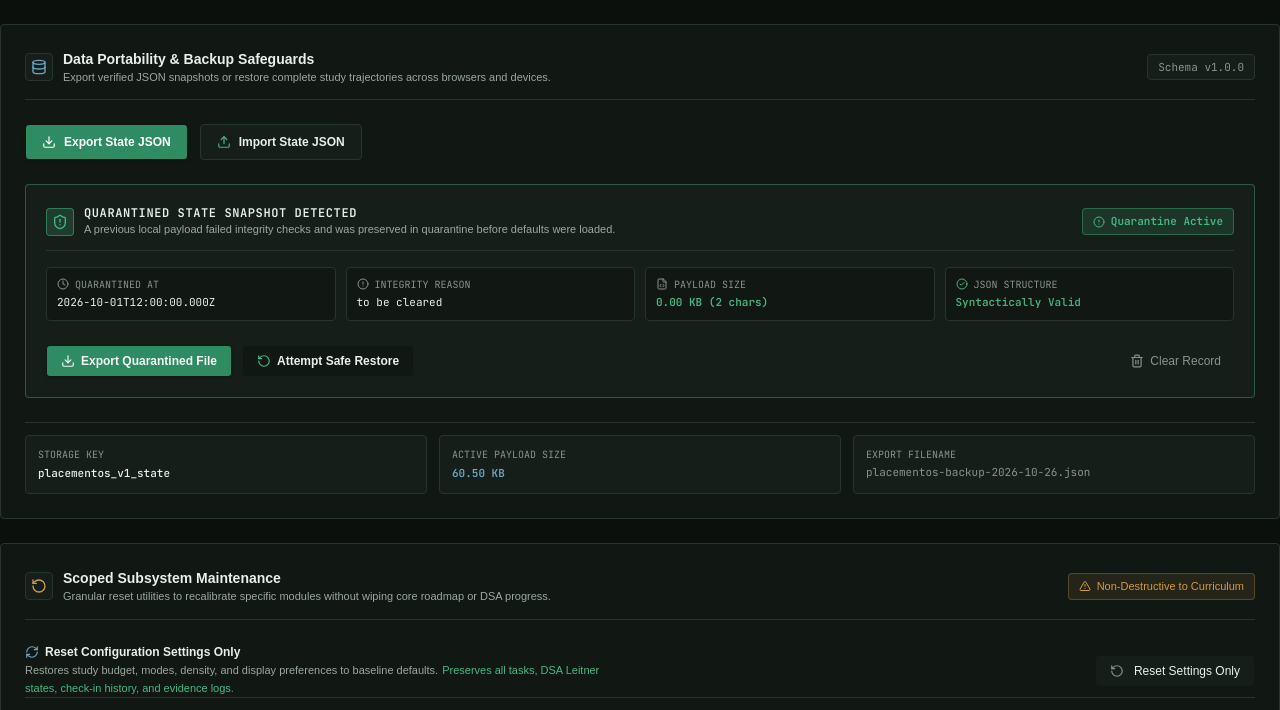
Task 153 — Quarantined Storage Inspection & Safe Recovery › Clearing quarantine removes record and hides recovery section upon confirmation
(page scrolled)
Expected: the element with test id "quarantine-recovery-section" is shown, [25,184,1255,398]
// Click Clear Record
Click the button with test id "clear-quarantine-btn" at (1176, 361), box [1117,345,1234,377]
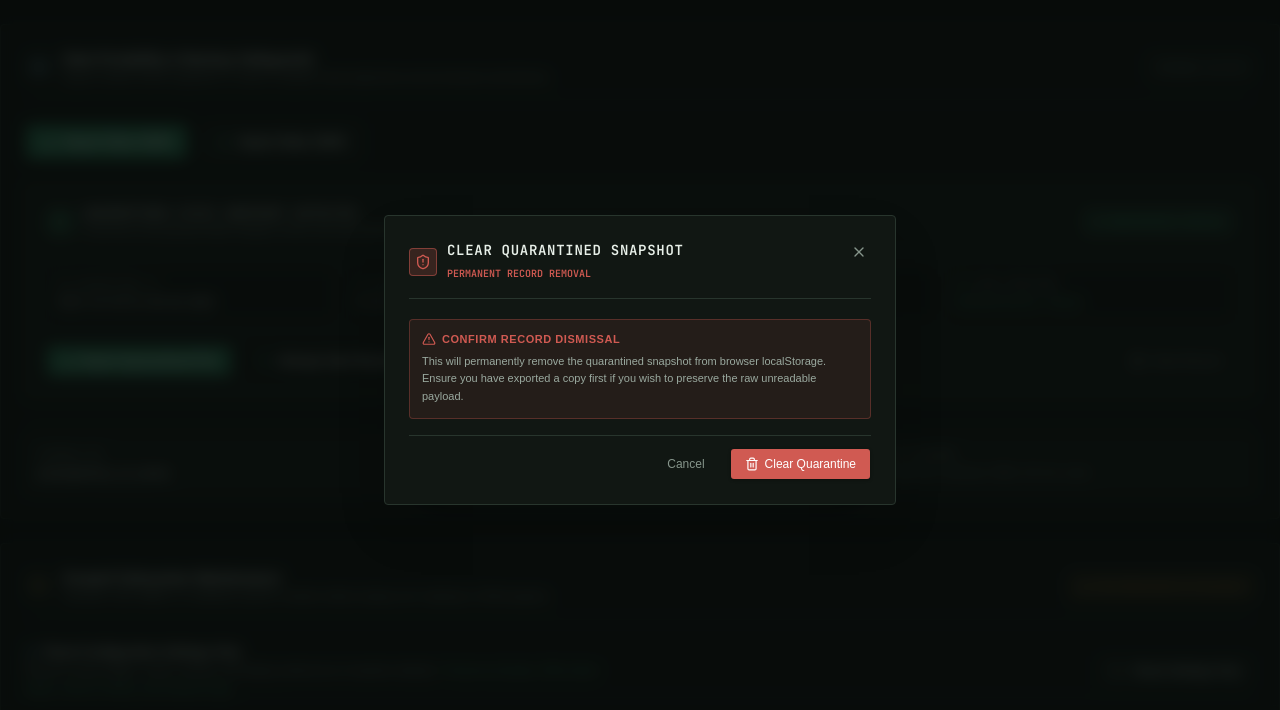
Now the heading "Clear Quarantined Snapshot" is shown, box [447,240,684,260]
Click the button "Clear Quarantine" at (800, 464), box [730,448,871,480]
(page scrolled)
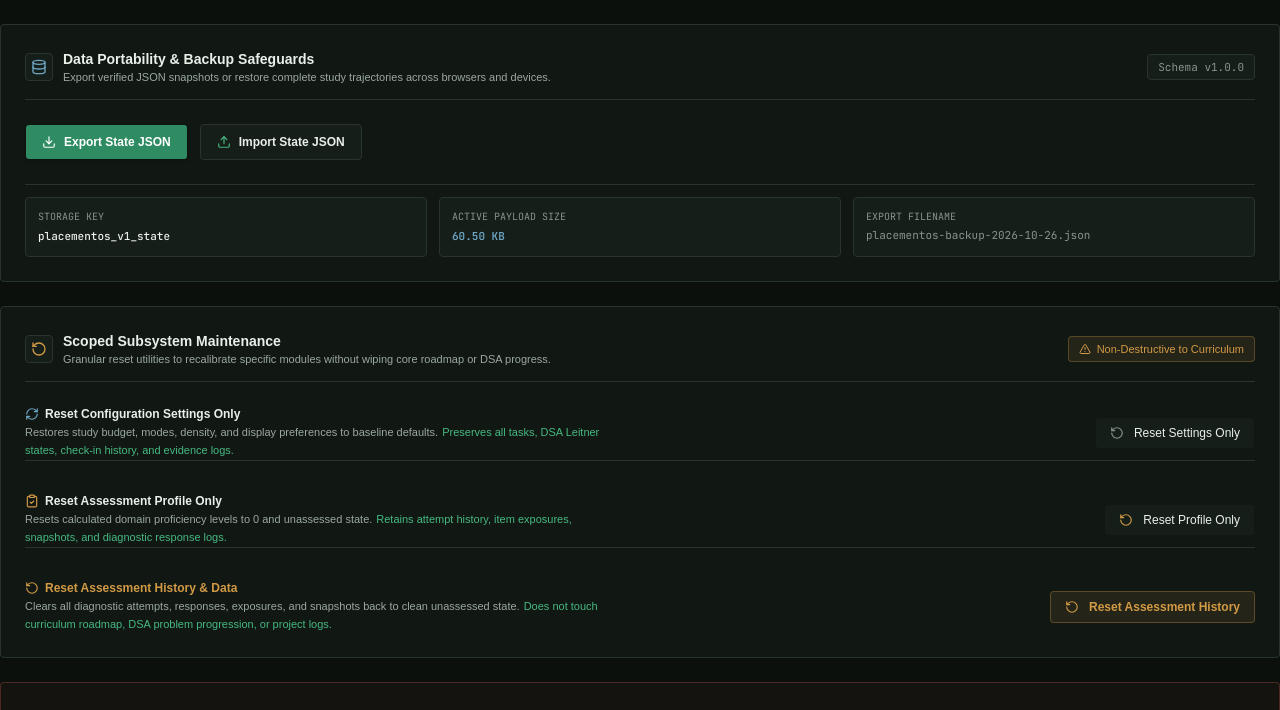
Now the element with test id "quarantine-recovery-section" is gone
